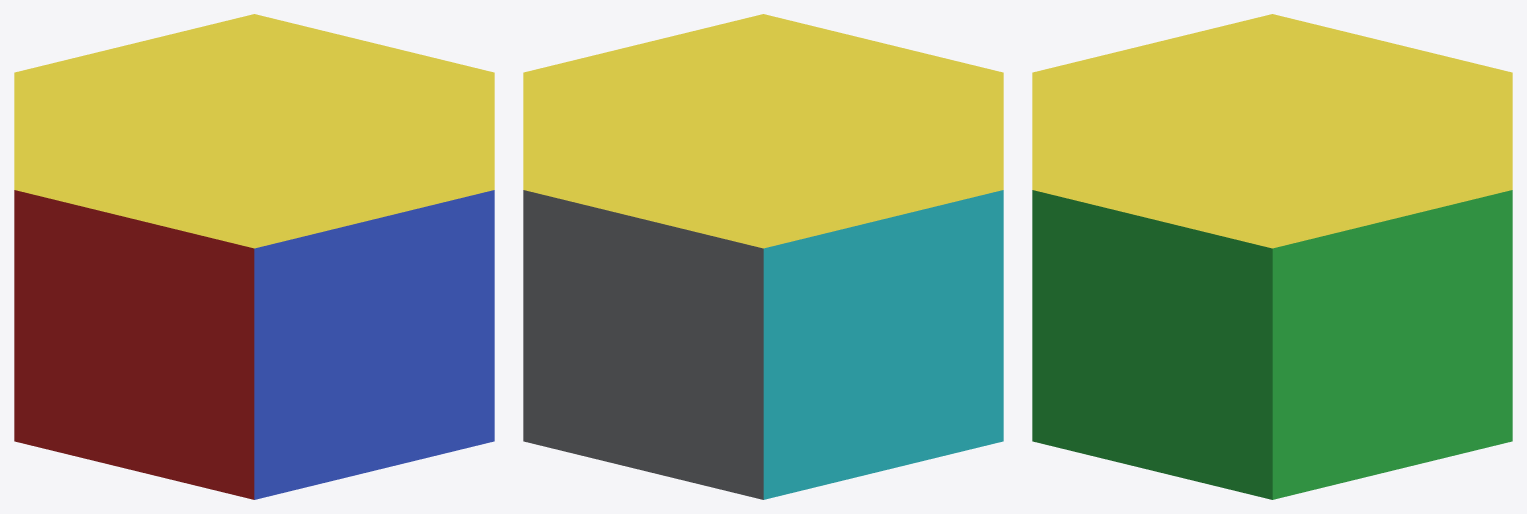
The model's file is prisma_hex.obj.
The picture shows the model from 3 angles, left to right: view 1: azimuth 30°, elevation 25°; view 2: azimuth 150°, elevation 25°; view 3: azimuth 270°, elevation 25°; orthographic projection.
Bounding box in the file's own units: 2 × 1 × 1.73.
